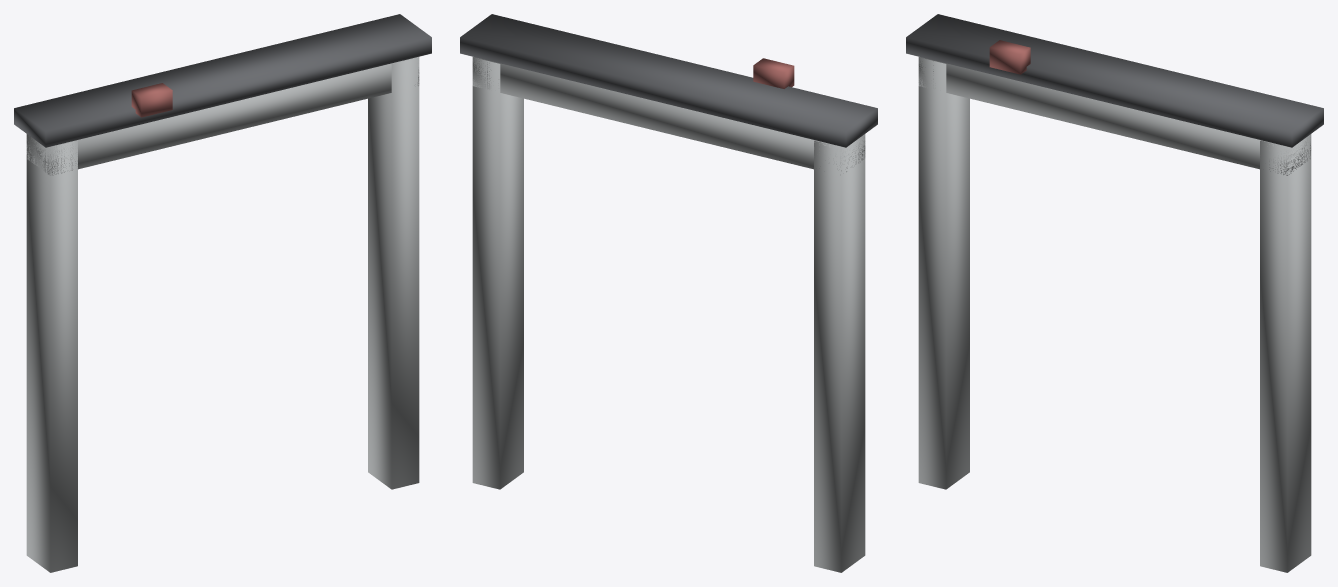
The model's file is doorway_fire_rated_w182_h220_d24.glb.
The picture shows the model from 3 angles, left to right: view 1: azimuth 30°, elevation 25°; view 2: azimuth 150°, elevation 25°; view 3: azimuth 330°, elevation 25°; orthographic projection.
Visible parts, largest first — view 1: world; view 2: world; view 3: world.
Boxes of the visible parts, x1,y1,x2,y2 form: world: (14, 14, 431, 572); world: (460, 14, 877, 572); world: (906, 14, 1323, 572).
Bounding box in the file's own units: 2.24 × 2.57 × 0.38.
